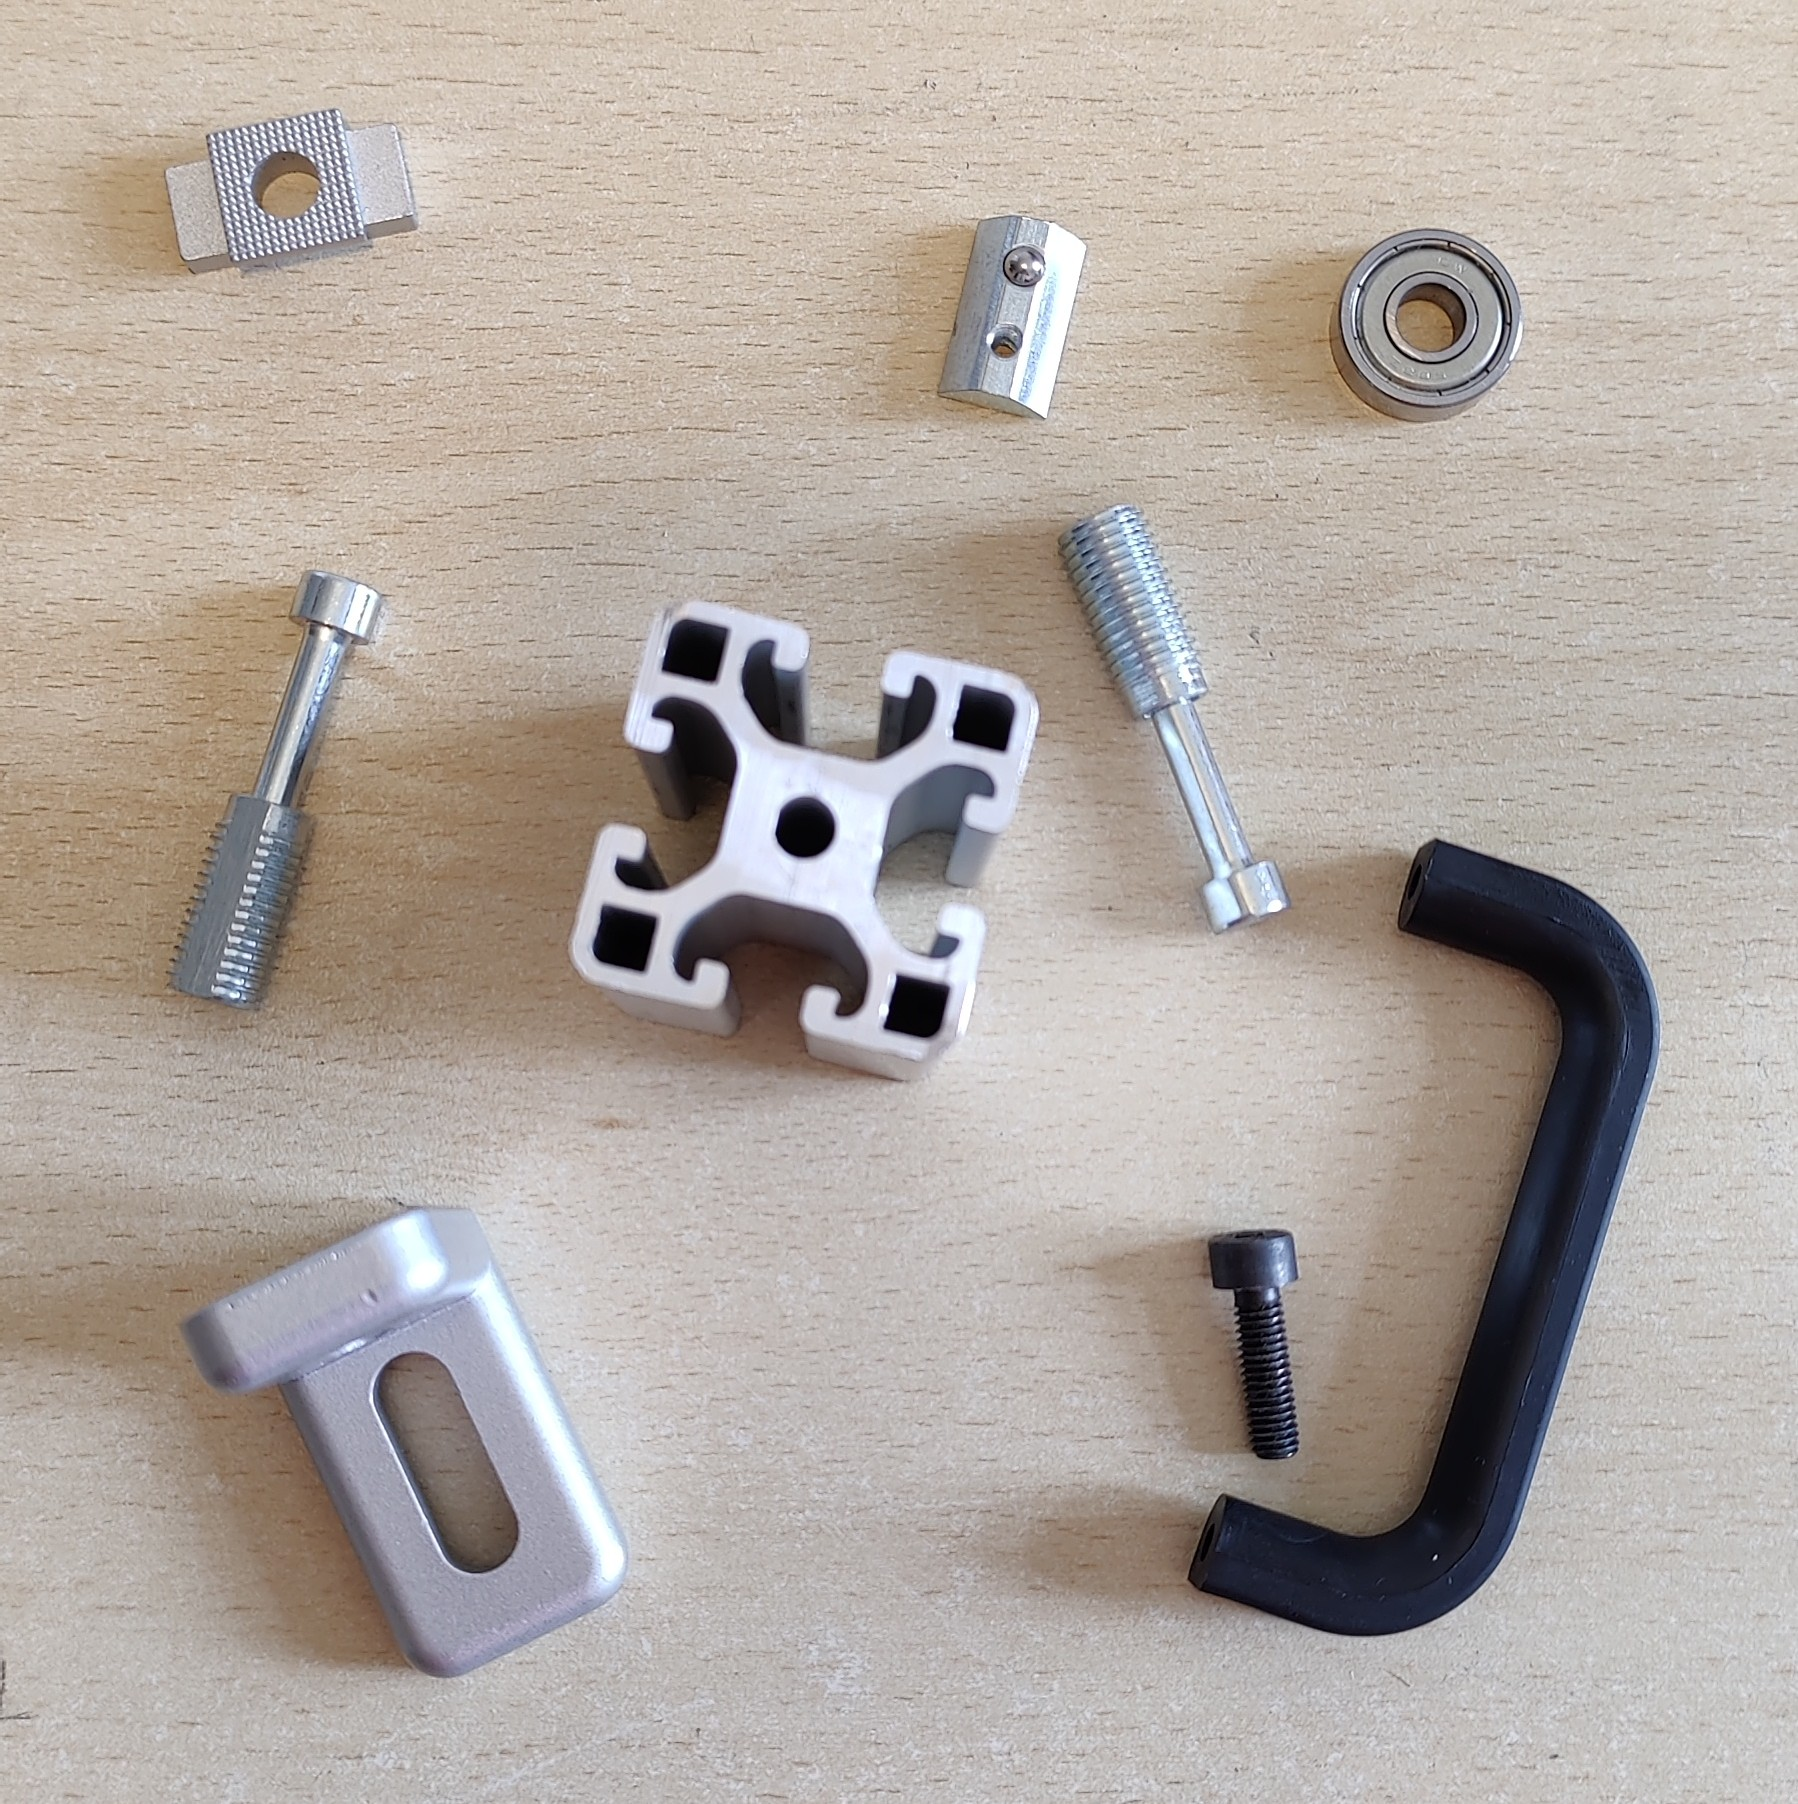Aluminium Extension: (565, 593, 1044, 1086)
Ball Bearing: (1324, 225, 1525, 423)
Multiwinkel: (175, 1203, 632, 1681)
Pull Handle: (1184, 833, 1663, 1641)
Shoulder Socket Head Cap Screw: (1052, 499, 1296, 942), (160, 566, 385, 1016)
Socket Head Cap Screw: (1204, 1225, 1304, 1463)
T Nut Square: (160, 105, 422, 277)
T Spring Nut: (935, 211, 1088, 423)
